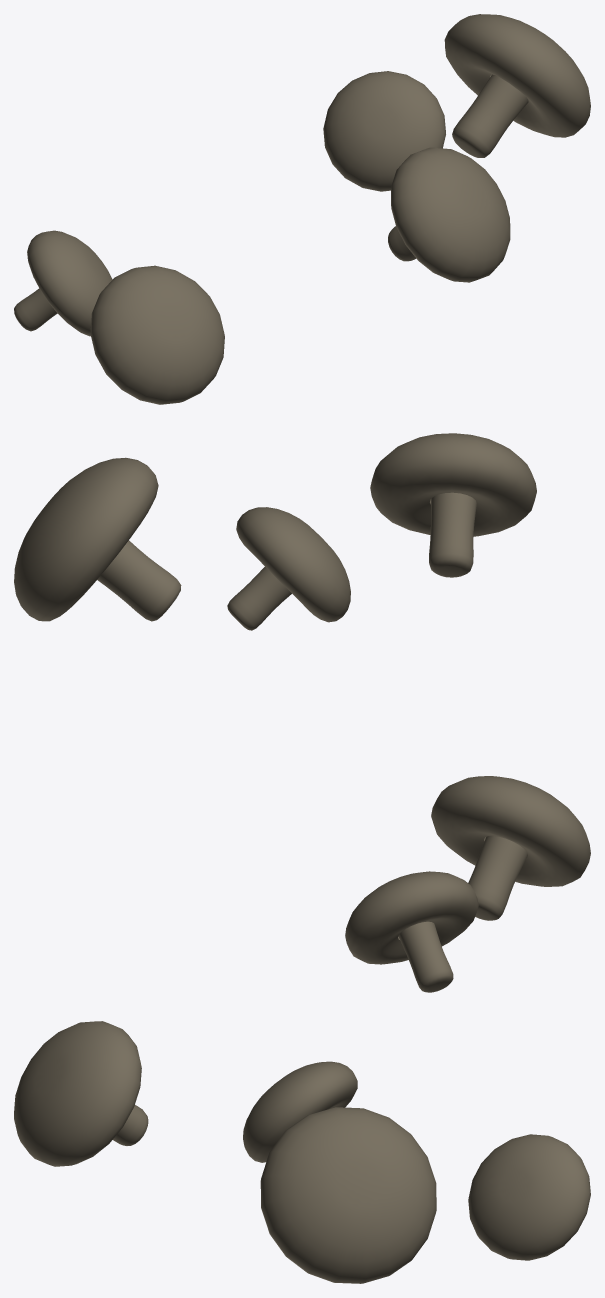
Rendered from Mushrooms-Whole.obj.
3 views of the same model, one above another, from view 1: azimuth 30°, elevation 25°; view 2: azimuth 150°, elevation 25°; view 3: azimuth 270°, elevation 25° (orthographic). The views are drawn at different scales.
Visible parts, largest first — view 1: Mushrooms-Whole_Sphere.014; view 2: Mushrooms-Whole_Sphere.014; view 3: Mushrooms-Whole_Sphere.014.
Part boxes in pixels (x1,y1,x2,y2): Mushrooms-Whole_Sphere.014: [14, 14, 590, 404]; Mushrooms-Whole_Sphere.014: [14, 433, 590, 992]; Mushrooms-Whole_Sphere.014: [14, 1021, 590, 1283].
Bounding box in the file's own units: 0.1784 × 0.1034 × 0.1706.
